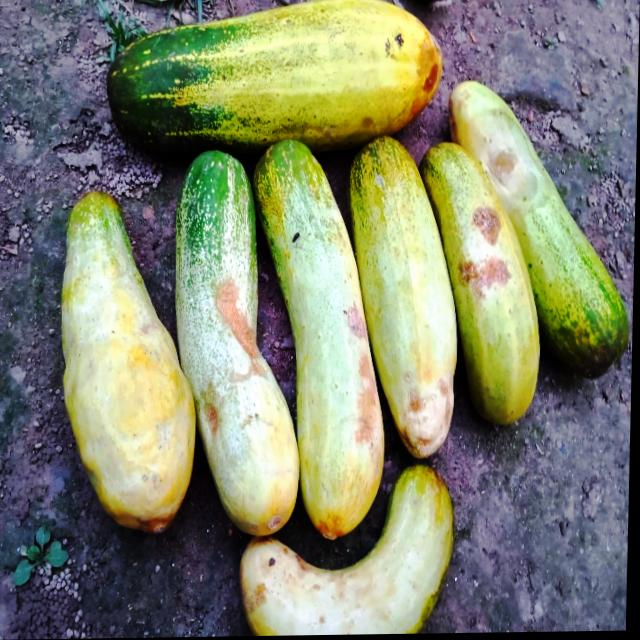Belly-Rot: (202, 272, 275, 441), (344, 303, 387, 446), (457, 203, 518, 302), (398, 381, 462, 456), (410, 31, 447, 118), (486, 141, 521, 187), (244, 586, 273, 616)
